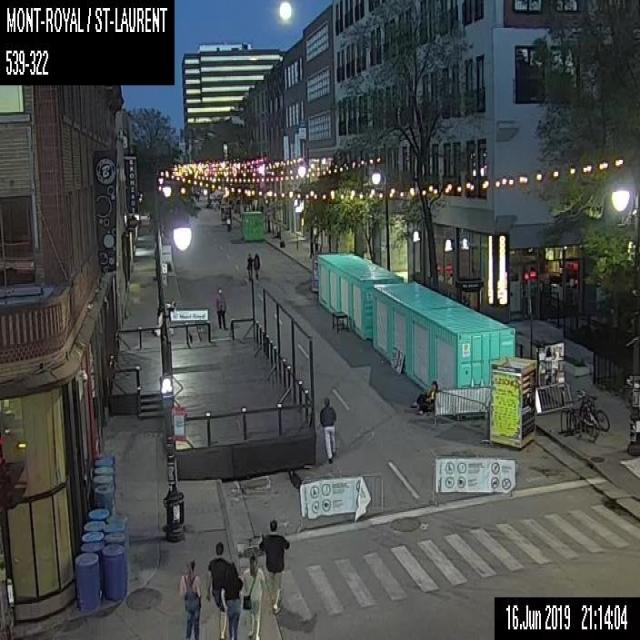construction: (295, 469, 383, 531), (430, 455, 518, 501)
pedestrian: (259, 514, 289, 615), (205, 539, 230, 639), (241, 546, 263, 639), (179, 558, 201, 638), (222, 560, 242, 638), (319, 396, 336, 461), (412, 378, 437, 414), (214, 287, 227, 328), (246, 251, 253, 280), (253, 250, 259, 278)
